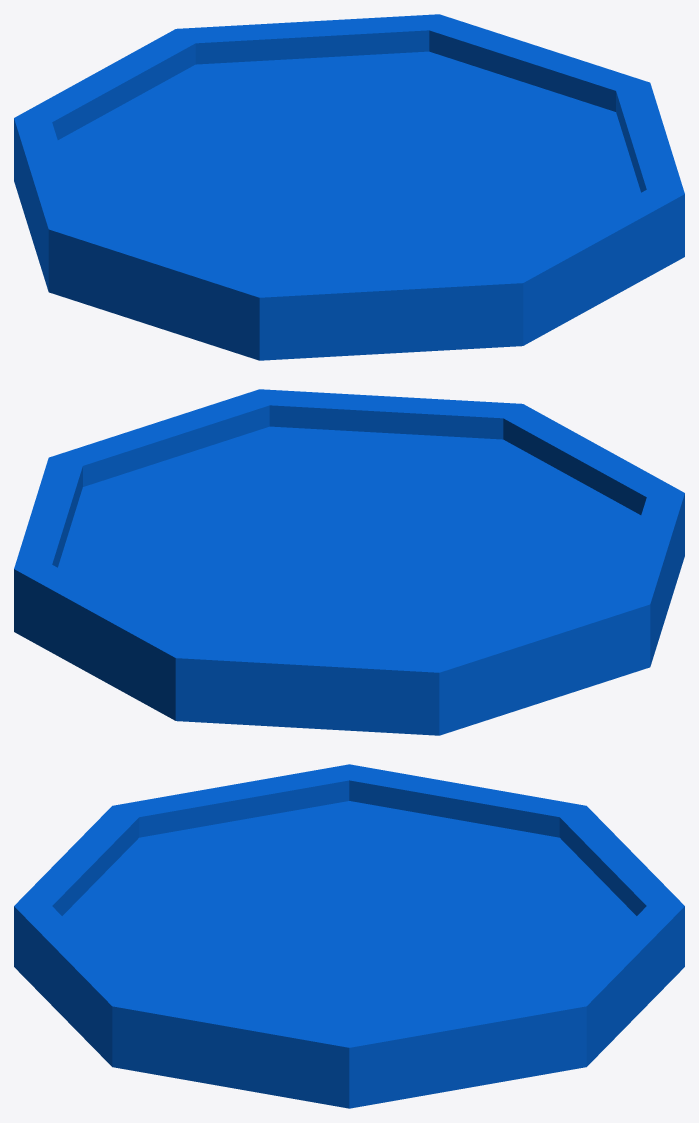
The model's file is hunsui.fbx.
3 views of the same model, one above another, from view 1: azimuth 30°, elevation 25°; view 2: azimuth 150°, elevation 25°; view 3: azimuth 270°, elevation 25° (orthographic). The views are drawn at different scales.
Visible parts, largest first — view 1: 円柱; view 2: 円柱; view 3: 円柱.
Boxes of the visible parts, x1,y1,x2,y2 form: 円柱: [14, 14, 684, 360]; 円柱: [14, 389, 684, 735]; 円柱: [14, 764, 684, 1108].
Bounding box in the file's own units: 200 × 20 × 200.
